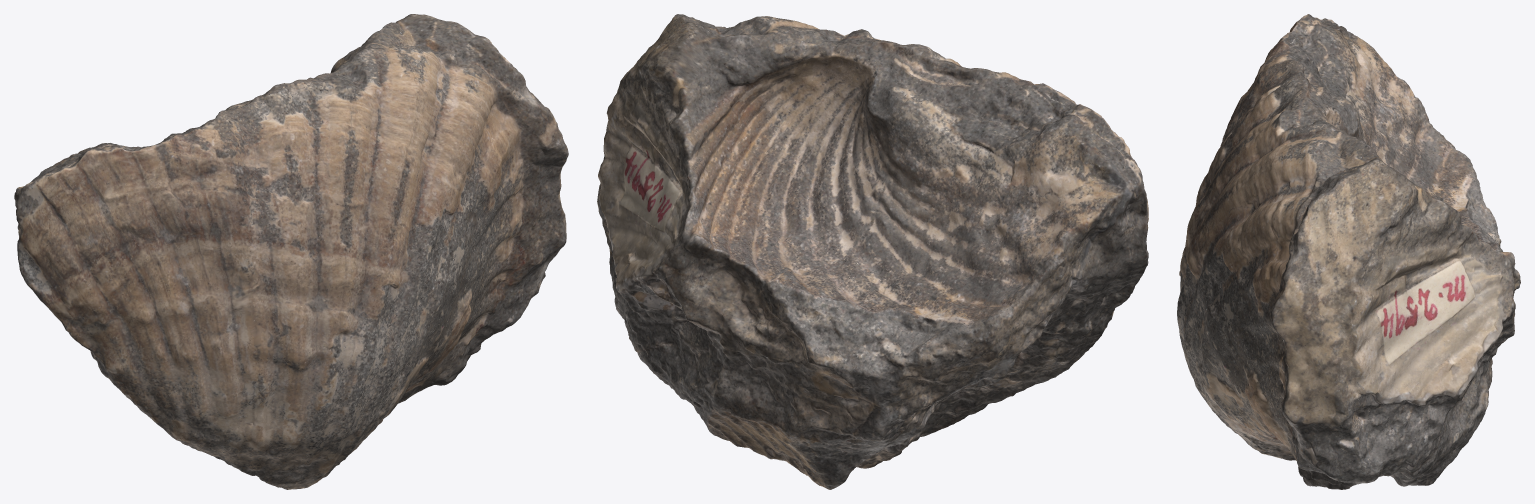
File: EWS0016359.glb
The picture shows the model from 3 angles, left to right: view 1: azimuth 30°, elevation 25°; view 2: azimuth 150°, elevation 25°; view 3: azimuth 270°, elevation 25°; orthographic projection. The views are drawn at different scales.
Parts seen in each view (by area): view 1: input; view 2: input; view 3: input.
Boxes of the visible parts, x1,y1,x2,y2 form: input: [14, 14, 568, 489]; input: [597, 14, 1148, 489]; input: [1177, 14, 1520, 489].
Bounding box in the file's own units: 0.052 × 0.0373 × 0.0305.
Materials: 1 (1 with a texture image).
